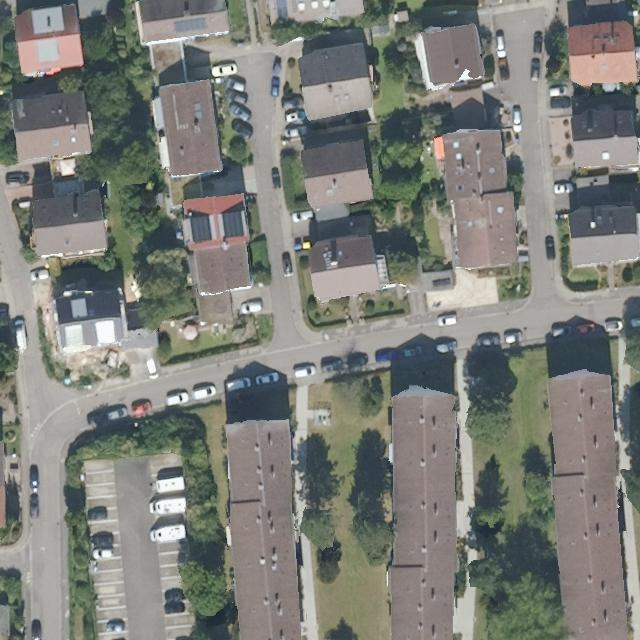PV: (219, 208, 245, 240), (188, 214, 212, 243), (172, 15, 209, 32), (275, 0, 289, 22)
